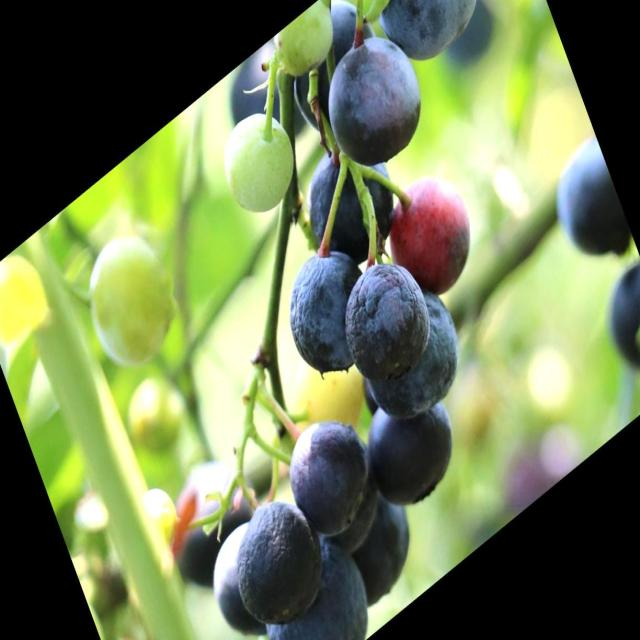blueberry: (289, 115, 407, 281), (317, 16, 434, 182), (348, 284, 469, 438), (354, 367, 468, 525), (274, 232, 383, 397), (221, 480, 333, 639), (329, 242, 440, 402), (277, 400, 377, 547), (252, 527, 380, 639), (543, 134, 630, 274), (363, 0, 492, 78)
blueberry-halfripe: (374, 148, 486, 316)
blueberry-unripe: (74, 214, 186, 388), (212, 92, 304, 226), (269, 0, 341, 88)
